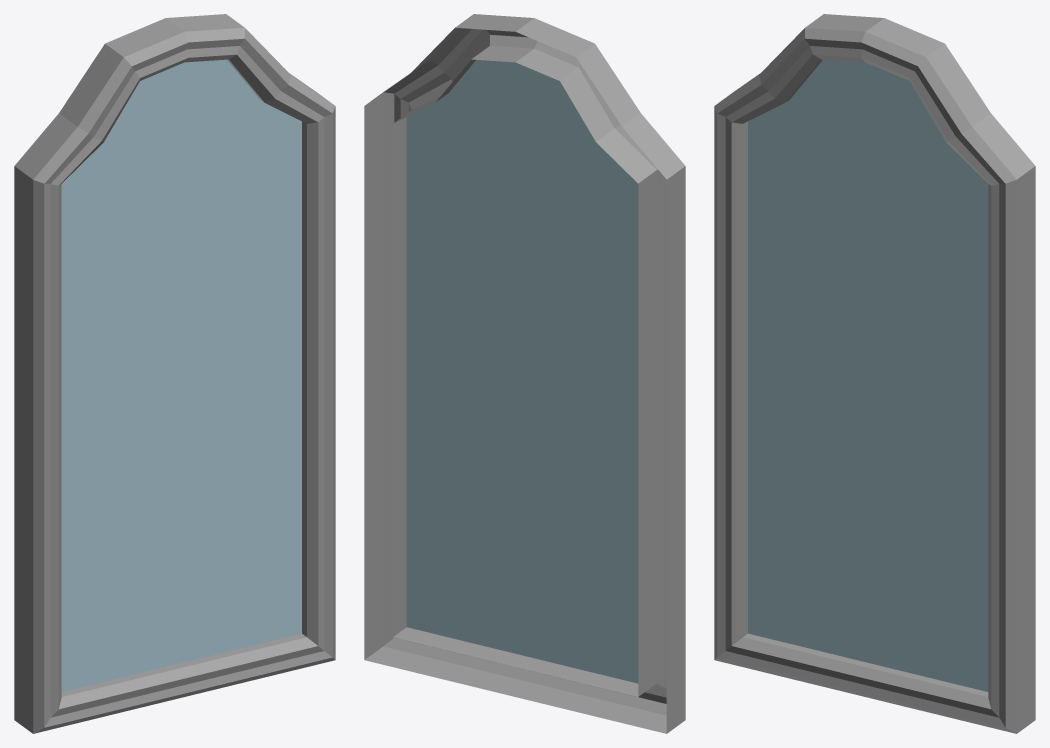
File: Mirror_1.fbx
The picture shows the model from 3 angles, left to right: view 1: azimuth 30°, elevation 25°; view 2: azimuth 150°, elevation 25°; view 3: azimuth 330°, elevation 25°; orthographic projection.
Visible parts, largest first — view 1: Mirror_1; view 2: Mirror_1; view 3: Mirror_1.
Boxes of the visible parts, x1,y1,x2,y2 form: Mirror_1: (14,14,335,733); Mirror_1: (364,14,685,733); Mirror_1: (714,14,1035,733).
Size of the model in its own units: 61.29 by 8.05 by 129.
